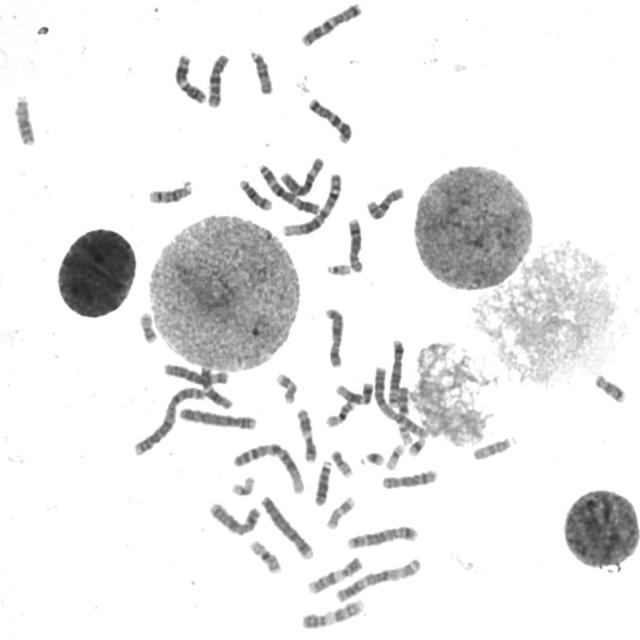A1: (230, 438, 308, 496), (279, 169, 344, 238)
A2: (130, 382, 211, 458), (371, 362, 432, 438)
A3: (332, 554, 424, 604), (255, 160, 322, 214)
B4: (258, 491, 316, 562), (176, 404, 259, 432)
B5: (345, 522, 421, 550), (386, 335, 406, 408)
C10: (204, 49, 232, 110), (364, 182, 407, 221)
C11: (172, 50, 208, 106), (294, 404, 319, 464)
C12: (199, 356, 235, 410), (332, 378, 376, 406)
C6: (278, 152, 327, 198), (161, 359, 230, 386)
C7: (298, 0, 364, 48), (306, 94, 355, 145)
C8: (379, 465, 440, 491), (344, 214, 366, 274)
C9: (304, 553, 366, 595), (299, 595, 367, 631)
D13: (11, 90, 38, 147), (312, 457, 334, 507)
D14: (146, 176, 195, 205), (237, 175, 274, 212)
D15: (470, 431, 518, 462), (247, 45, 275, 96)
E16: (246, 536, 284, 576), (324, 396, 357, 428)
E17: (324, 492, 357, 531), (272, 369, 300, 405)
E18: (592, 370, 629, 404), (393, 382, 412, 418)
F19: (383, 439, 407, 472), (229, 472, 257, 497)
F20: (328, 446, 356, 478), (136, 308, 160, 345)
G21: (358, 447, 387, 468), (406, 433, 428, 457)
G22: (324, 260, 353, 277), (396, 421, 414, 444)
X: (206, 498, 263, 537), (322, 304, 347, 369)
